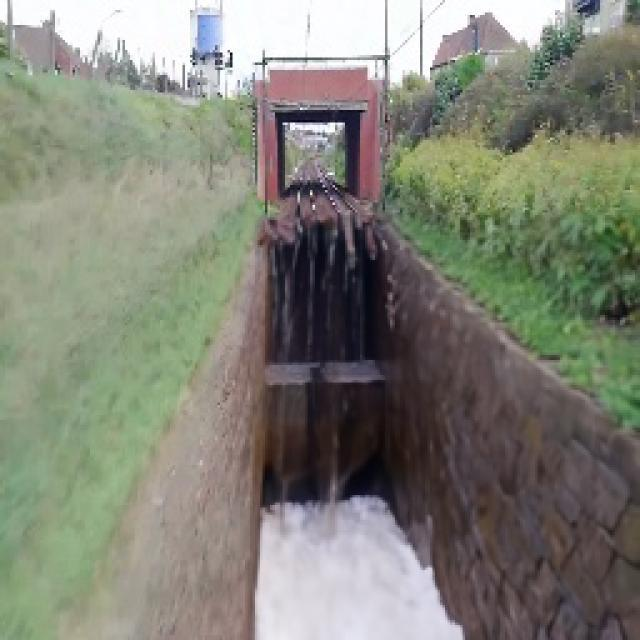danger: (50, 207, 640, 639)
rail: (288, 154, 320, 215)
